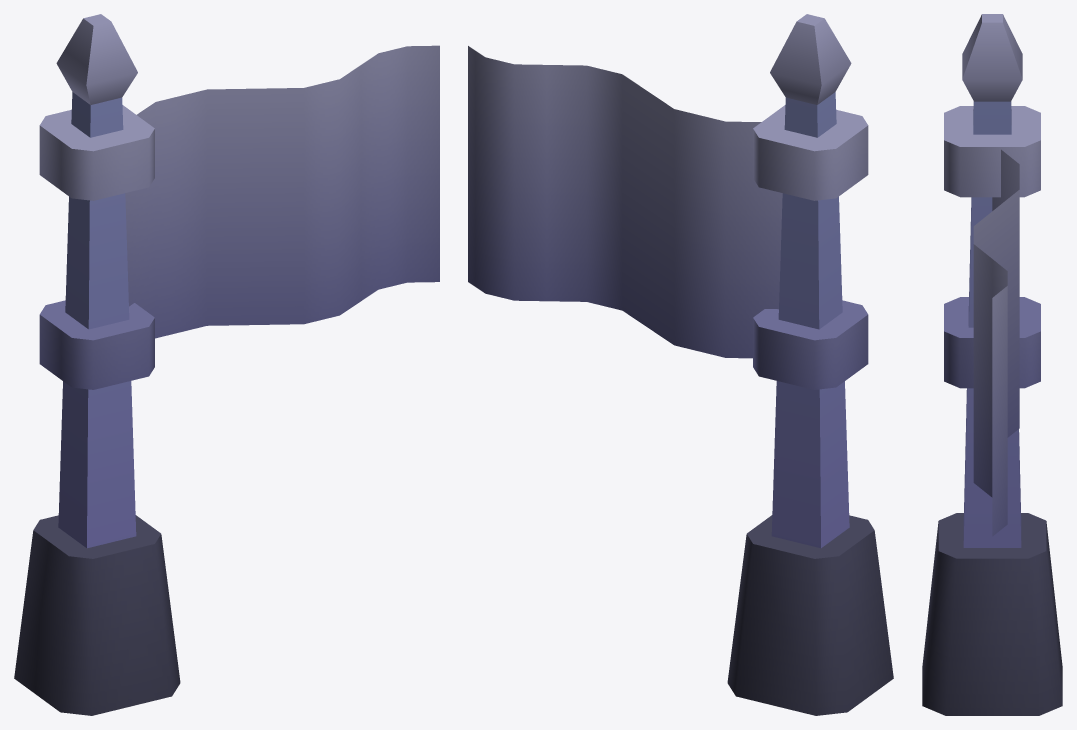
The model's file is flag-pirate.fbx.
The picture shows the model from 3 angles, left to right: view 1: azimuth 30°, elevation 25°; view 2: azimuth 150°, elevation 25°; view 3: azimuth 270°, elevation 25°; orthographic projection.
Visible parts, largest first — view 1: flag-pirate; view 2: flag-pirate; view 3: flag-pirate.
Boxes of the visible parts, bbox=[...] form: flag-pirate: bbox=[14, 14, 439, 715]; flag-pirate: bbox=[468, 14, 893, 715]; flag-pirate: bbox=[922, 14, 1062, 715].
Size of the model in its own units: 134 by 210 by 39.89.
